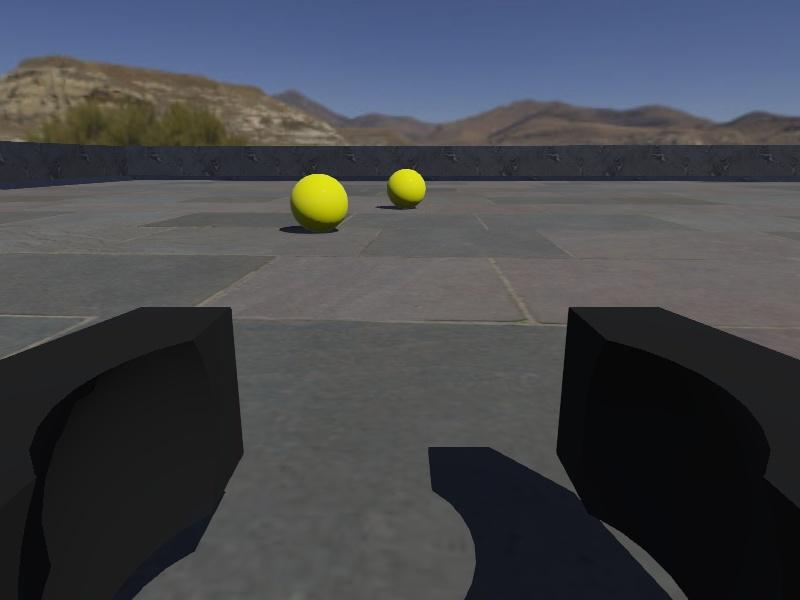yellow ball: (289, 172, 350, 233), (385, 168, 427, 209)
